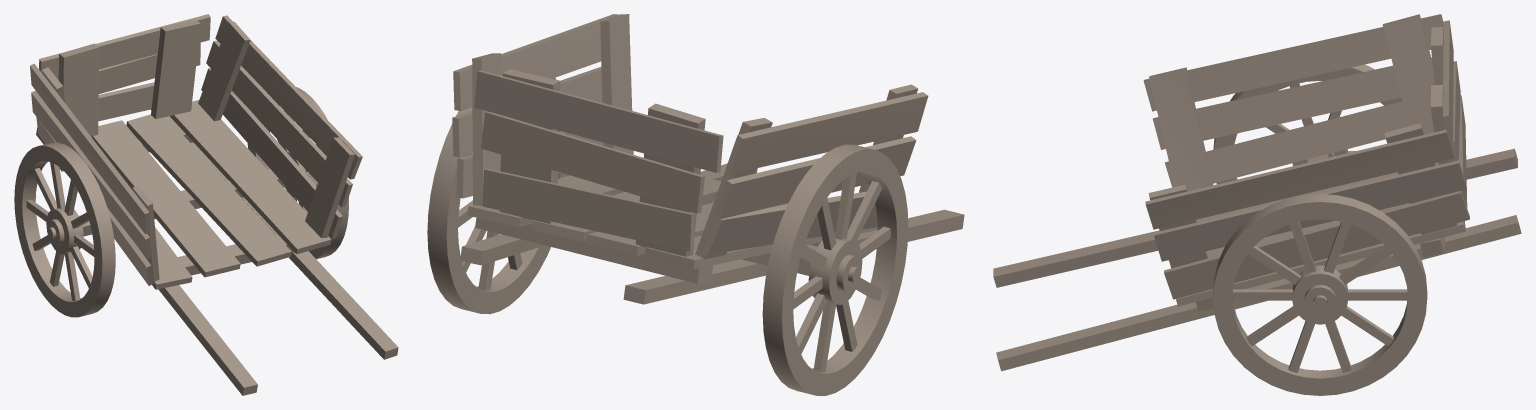
File: Woodcart.glb
The picture shows the model from 3 angles, left to right: view 1: azimuth 30°, elevation 25°; view 2: azimuth 150°, elevation 25°; view 3: azimuth 270°, elevation 25°; orthographic projection. The views are drawn at different scales.
Visible parts, largest first — view 1: OPM0021_body, OPM0021_wheel_1, OPM0021_wheel_2; view 2: OPM0021_body, OPM0021_wheel_1, OPM0021_wheel_2; view 3: OPM0021_body, OPM0021_wheel_2, OPM0021_wheel_1.
Boxes of the visible parts, x1,y1,x2,y2 form: OPM0021_body: (30, 14, 398, 395); OPM0021_wheel_1: (14, 142, 115, 317); OPM0021_wheel_2: (247, 87, 348, 259); OPM0021_body: (452, 14, 964, 304); OPM0021_wheel_1: (762, 144, 908, 395); OPM0021_wheel_2: (427, 78, 569, 314); OPM0021_body: (993, 14, 1521, 371); OPM0021_wheel_2: (1213, 194, 1427, 395); OPM0021_wheel_1: (1213, 64, 1402, 184).
Size of the model in its own units: 1.86 by 1.42 by 2.66.
